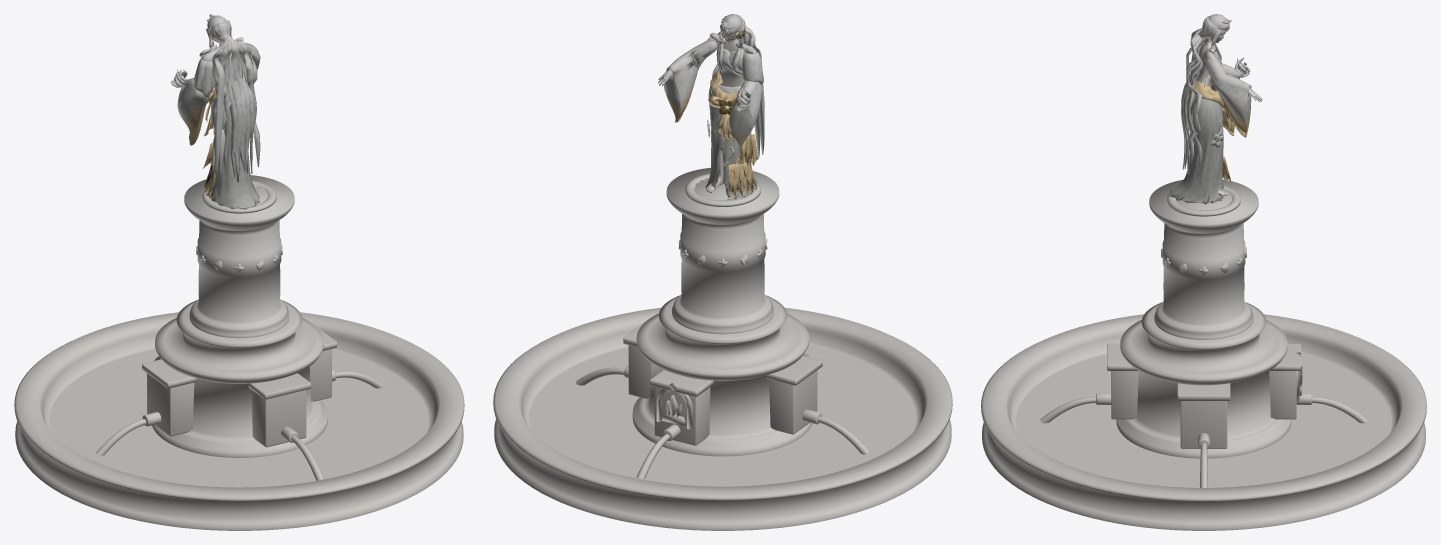
File: favilla-e5.glb
3 renders of one model, left to right at view 1: azimuth 30°, elevation 25°; view 2: azimuth 150°, elevation 25°; view 3: azimuth 270°, elevation 25°, orthographic. The views are drawn at different scales.
Visible parts, largest first — view 1: Favilla_Fountain, Favilla_LOD0; view 2: Favilla_Fountain, Favilla_LOD0; view 3: Favilla_Fountain, Favilla_LOD0.
Boxes of the visible parts, x1,y1,x2,y2 form: Favilla_Fountain: (14,175,464,530); Favilla_LOD0: (171,14,260,209); Favilla_Fountain: (493,168,952,530); Favilla_LOD0: (658,14,764,200); Favilla_Fountain: (981,179,1426,530); Favilla_LOD0: (1169,14,1262,204).
Bounding box in the file's own units: 10.44 × 10.72 × 10.44.
2 materials, 1 textured.
